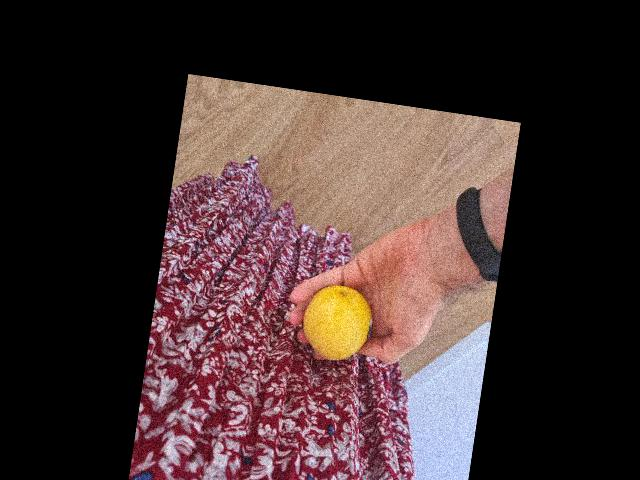lemon: (300, 282, 375, 364)
